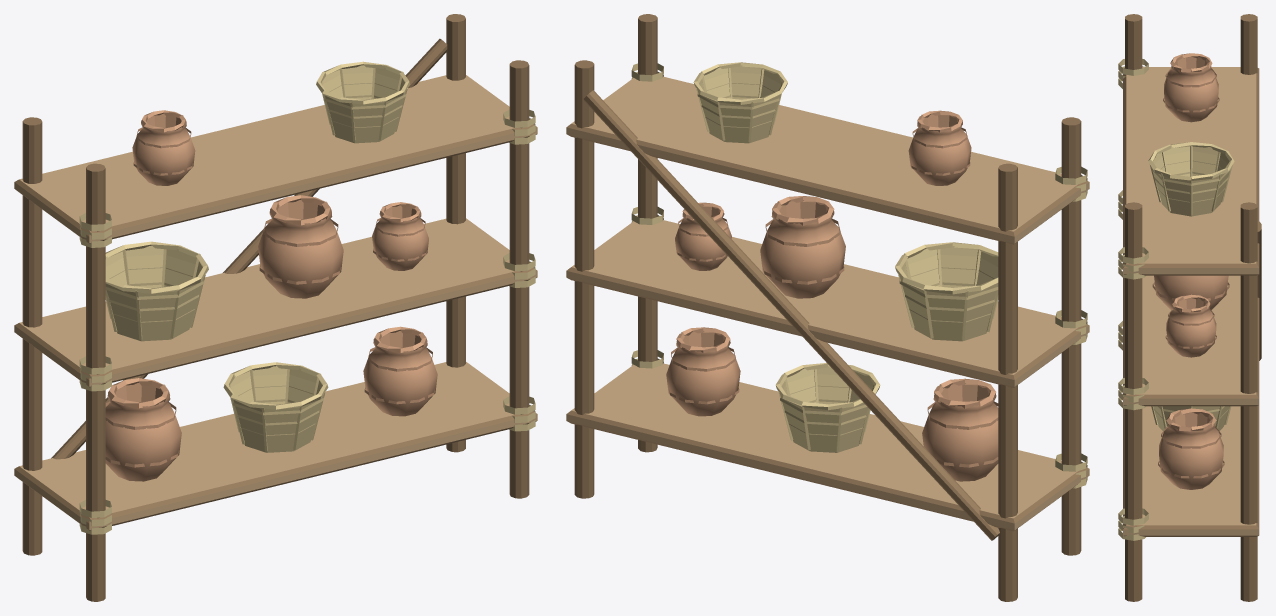
Rendered from storage_shelf.glb.
3 renders of one model, left to right at view 1: azimuth 30°, elevation 25°; view 2: azimuth 150°, elevation 25°; view 3: azimuth 270°, elevation 25°, orthographic. The views are drawn at different scales.
Parts seen in each view (by area): view 1: storage_shelf; view 2: storage_shelf; view 3: storage_shelf.
Boxes of the visible parts, left/top/right/bottom form: storage_shelf: left=14, top=14, right=537, bottom=601; storage_shelf: left=566, top=14, right=1089, bottom=601; storage_shelf: left=1118, top=14, right=1261, bottom=601.
Bounding box in the file's own units: 1.82 × 1.65 × 0.5459.
